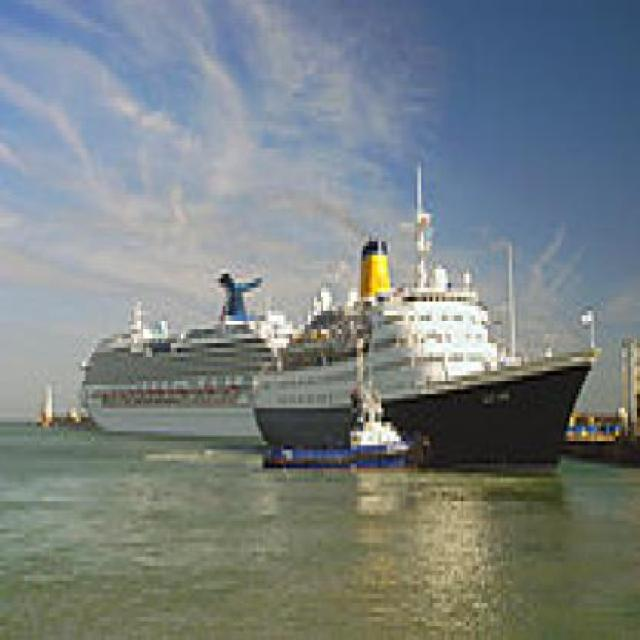cruise: (236, 154, 601, 479), (74, 279, 310, 456)
